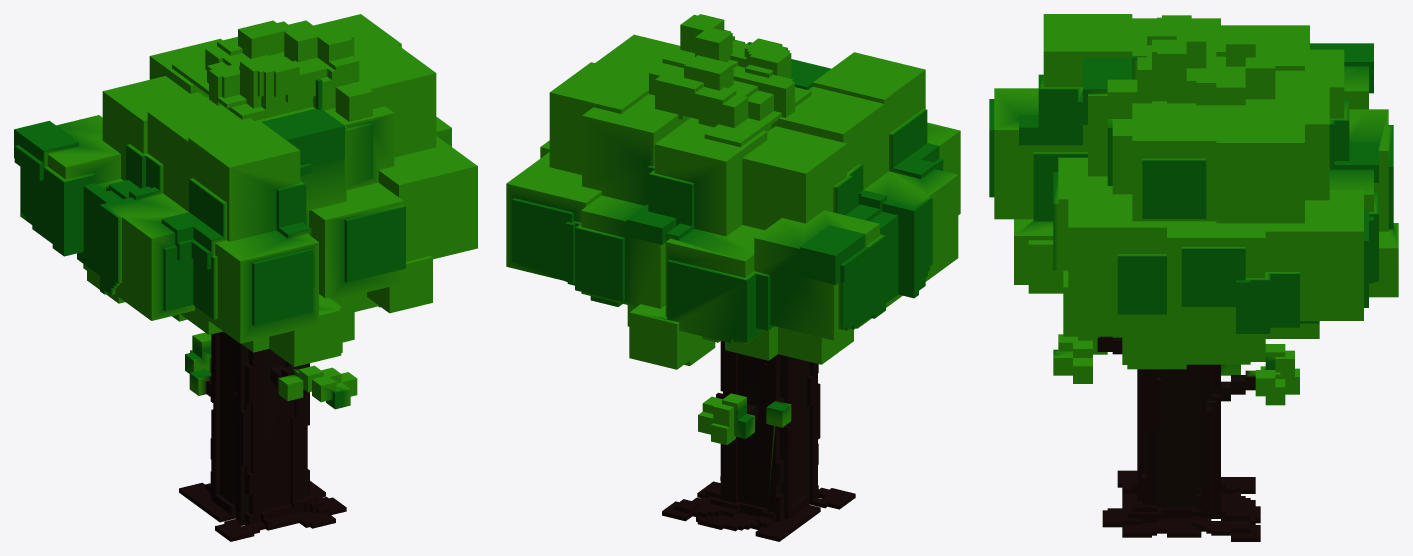
File: Tree_28.fbx
3 renders of one model, left to right at view 1: azimuth 30°, elevation 25°; view 2: azimuth 150°, elevation 25°; view 3: azimuth 270°, elevation 25°, orthographic. The views are drawn at different scales.
Parts seen in each view (by area): view 1: Tree_28; view 2: Tree_28; view 3: Tree_28.
Boxes of the visible parts, x1,y1,x2,y2 form: Tree_28: (14,14,477,541); Tree_28: (506,14,960,541); Tree_28: (989,14,1398,541).
Size of the model in its own units: 900 by 1110 by 830.
